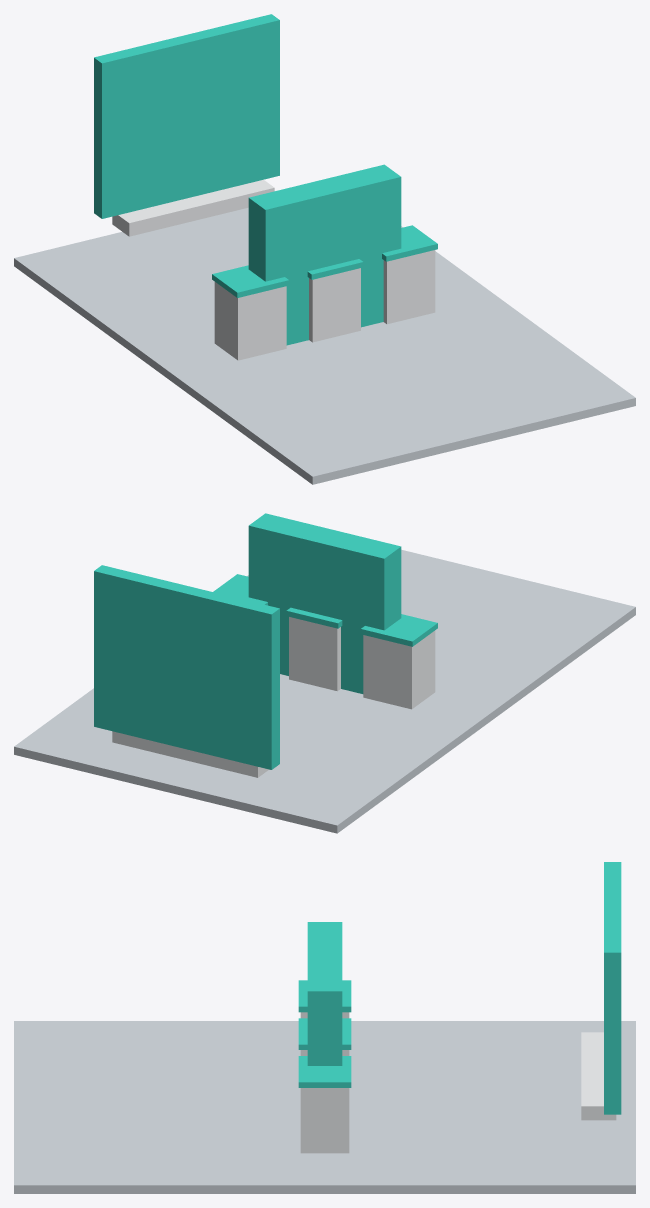
3 renders of one model, top to bottom at view 1: azimuth 30°, elevation 25°; view 2: azimuth 150°, elevation 25°; view 3: azimuth 270°, elevation 25°, orthographic. The views are drawn at different scales.
Parts seen in each view (by area): view 1: Exhibition Booth Concept; view 2: Exhibition Booth Concept; view 3: Exhibition Booth Concept.
Part boxes in pixels (<box>): Exhibition Booth Concept: <box>14,14,635,484</box>; Exhibition Booth Concept: <box>14,513,635,833</box>; Exhibition Booth Concept: <box>14,862,635,1193</box>.
Size of the model in its own units: 5 by 2.9 by 8.
